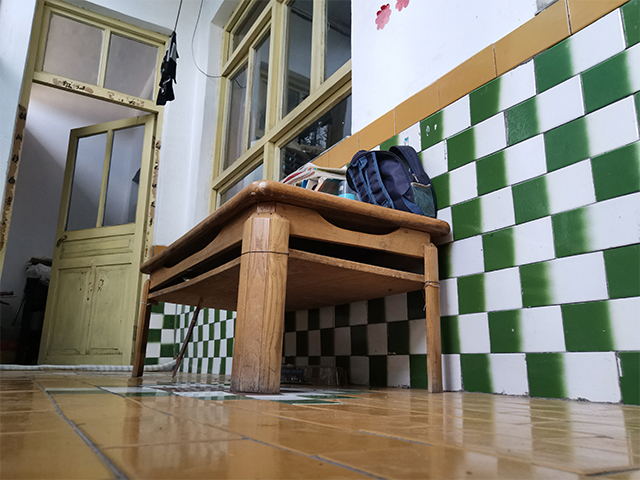cabinet: (130, 178, 451, 396)
